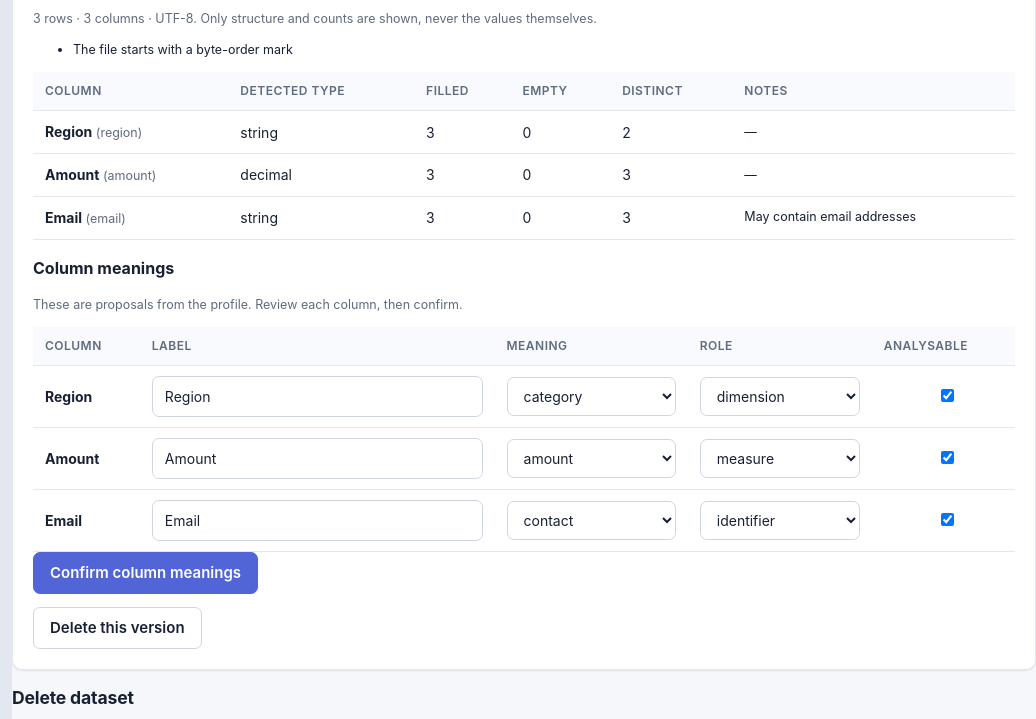
Test: Version panel › proposes column meanings and an admin confirms them
(page scrolled)
Check: the 5th dropdown named "Meaning of Email" shows "contact", box x1=506 y1=501 x2=676 y2=540
Check: the 6th dropdown named "Role of Email" shows "identifier", box x1=700 y1=501 x2=860 y2=540
Click the button "Confirm column meanings" at x=146, y=573, box x1=33 y1=552 x2=258 y2=594
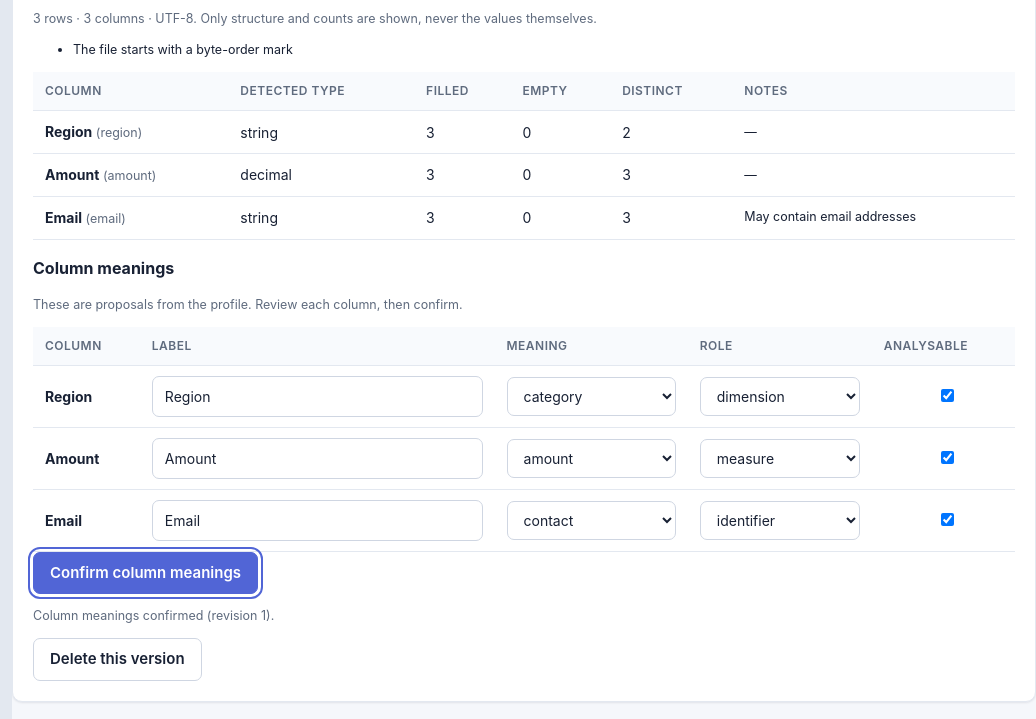
Check: the text "Column meanings confirmed (revision 1)." is shown, box x1=33 y1=608 x2=274 y2=623
